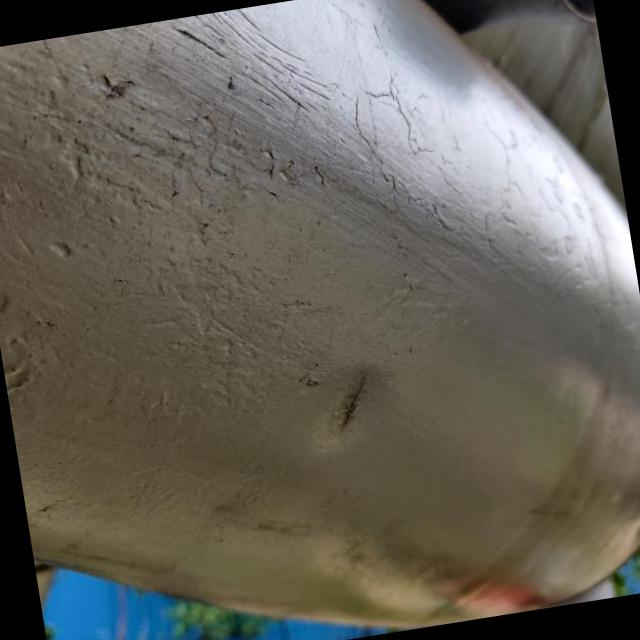Dent: (300, 341, 406, 452)
